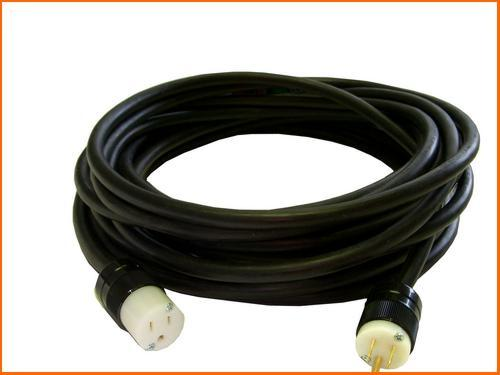Nonrec_Tangler: (10, 53, 477, 353)
